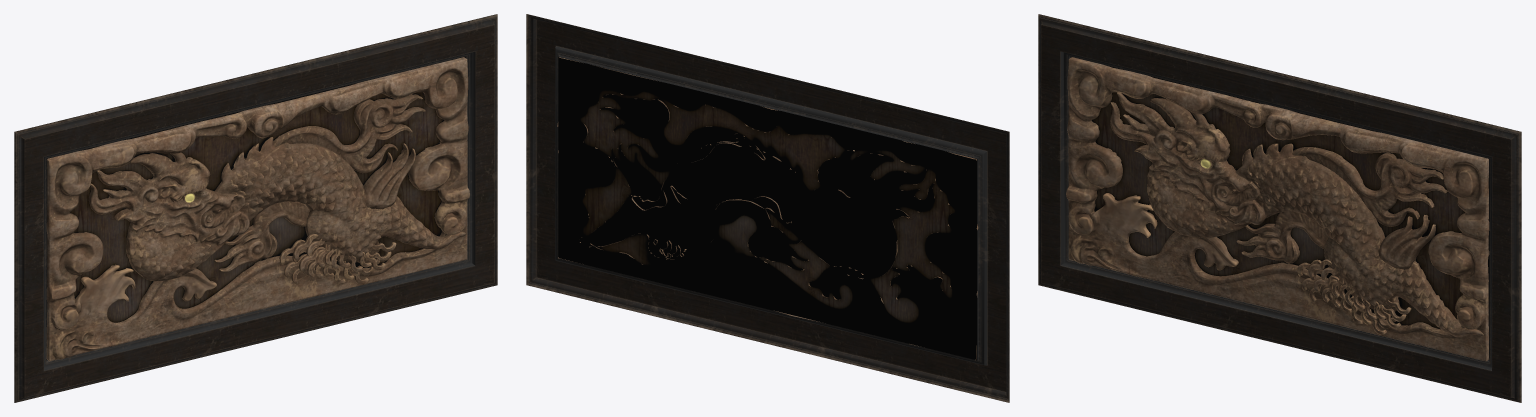
Rendered from SM_Dragon_Wall.fbx.
The picture shows the model from 3 angles, left to right: view 1: azimuth 30°, elevation 25°; view 2: azimuth 150°, elevation 25°; view 3: azimuth 330°, elevation 25°; orthographic projection.
Visible parts, largest first — view 1: SM_Dragon_Wall_LOD0; view 2: SM_Dragon_Wall_LOD0; view 3: SM_Dragon_Wall_LOD0.
Part boxes in pixels (left/top/right/bottom): SM_Dragon_Wall_LOD0: left=14, top=14, right=497, bottom=402; SM_Dragon_Wall_LOD0: left=526, top=14, right=1009, bottom=402; SM_Dragon_Wall_LOD0: left=1038, top=14, right=1521, bottom=402.
Size of the model in its own units: 426 by 15.44 by 228.
